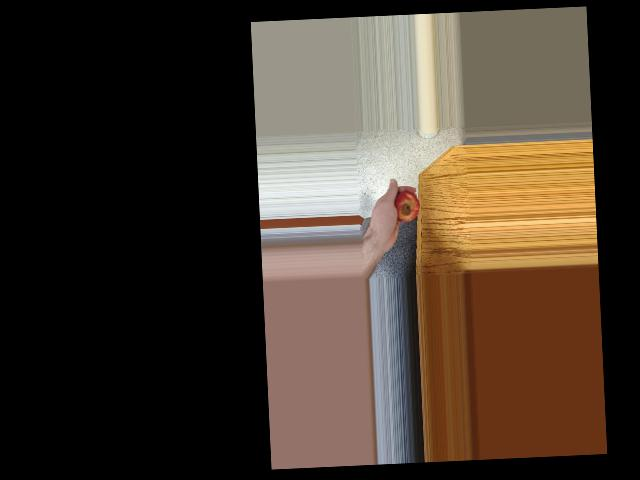apple: (389, 188, 421, 230)
